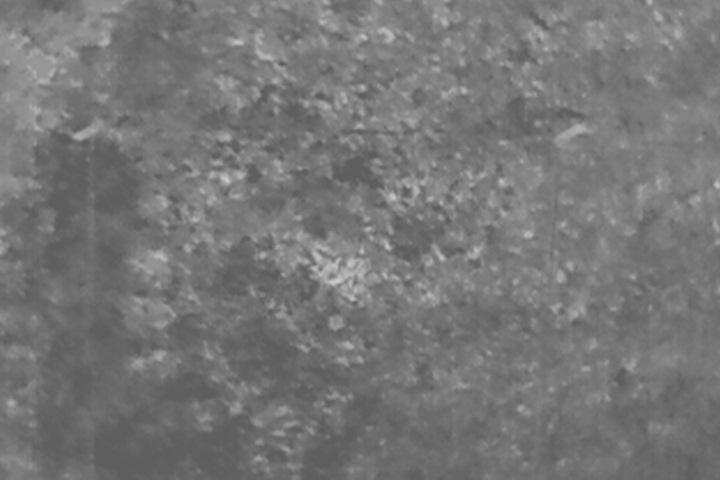landmine: (314, 252, 347, 288)
